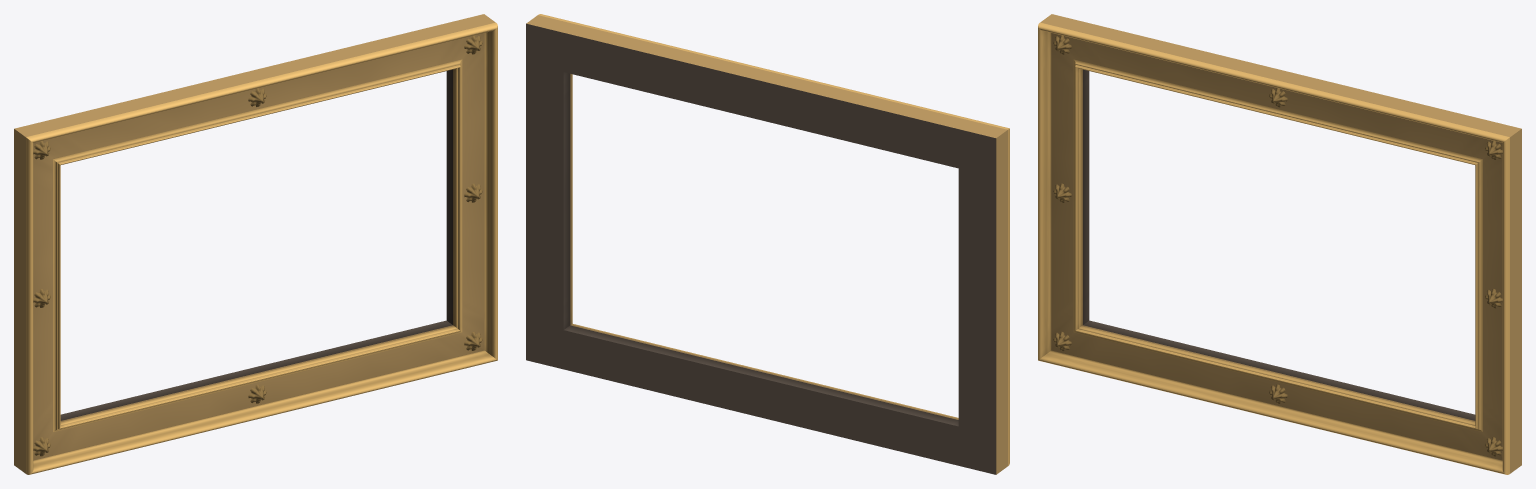
File: 01-rozhdenie-venery.glb
3 views of the same model, side by side, from view 1: azimuth 30°, elevation 25°; view 2: azimuth 150°, elevation 25°; view 3: azimuth 330°, elevation 25° (orthographic).
Parts seen in each view (by area): view 1: Frame; view 2: Frame; view 3: Frame.
Part boxes in pixels (x1,y1,x2,y2): Frame: [14, 14, 497, 474]; Frame: [526, 14, 1009, 474]; Frame: [1038, 14, 1521, 474].
Bounding box in the file's own units: 1.88 × 1.28 × 0.1049.
